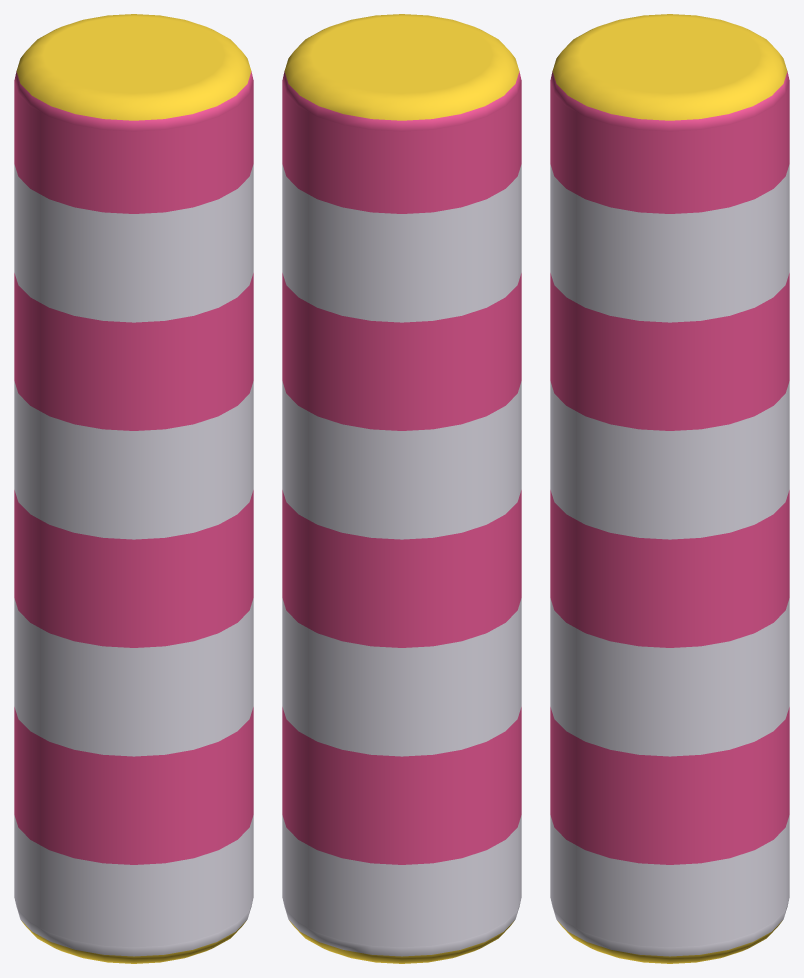
File: pillar_1x4.glb
3 views of the same model, side by side, from view 1: azimuth 30°, elevation 25°; view 2: azimuth 150°, elevation 25°; view 3: azimuth 270°, elevation 25° (orthographic).
Parts seen in each view (by area): view 1: pillar_1x4; view 2: pillar_1x4; view 3: pillar_1x4.
Boxes of the visible parts, box(x1,y1,x2,y2) form: pillar_1x4: box(14, 14, 253, 963); pillar_1x4: box(282, 14, 521, 963); pillar_1x4: box(550, 14, 789, 963).
Size of the model in its own units: 1 by 4 by 1.
1 material, 1 textured.
